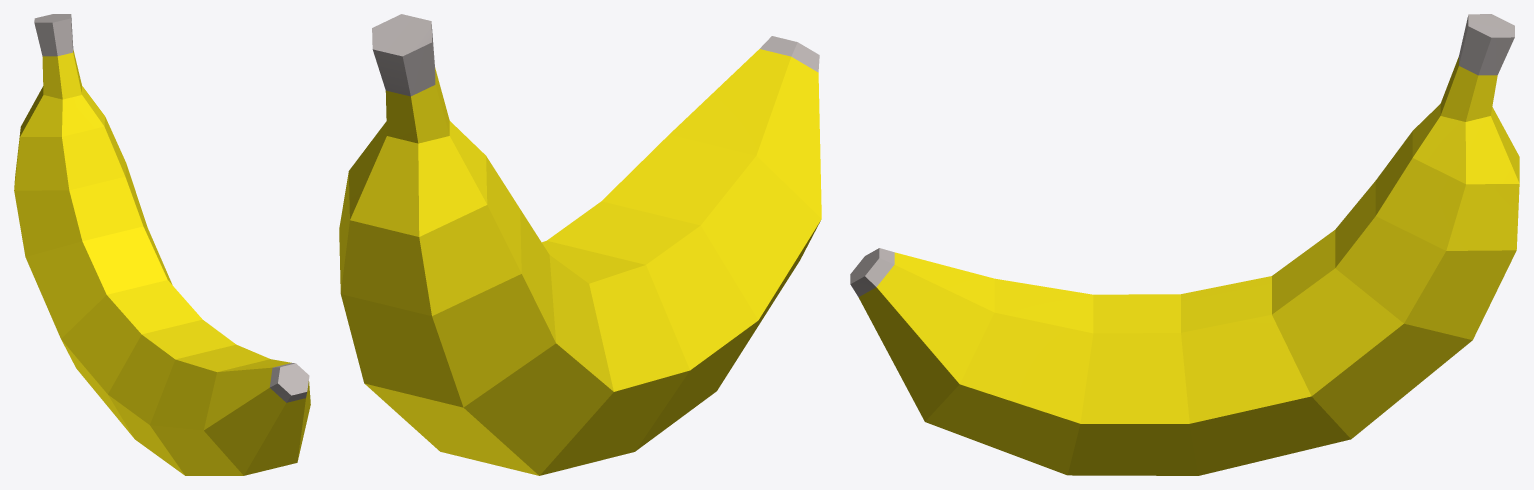
Rendered from banana_001.obj.
3 renders of one model, left to right at view 1: azimuth 30°, elevation 25°; view 2: azimuth 150°, elevation 25°; view 3: azimuth 270°, elevation 25°, orthographic. The views are drawn at different scales.
Parts seen in each view (by area): view 1: banana_001; view 2: banana_001; view 3: banana_001.
Boxes of the visible parts, x1,y1,x2,y2 form: banana_001: [14, 14, 310, 475]; banana_001: [339, 14, 821, 475]; banana_001: [850, 14, 1519, 475].
Bounding box in the file's own units: 0.0545 × 0.143 × 0.1988.
